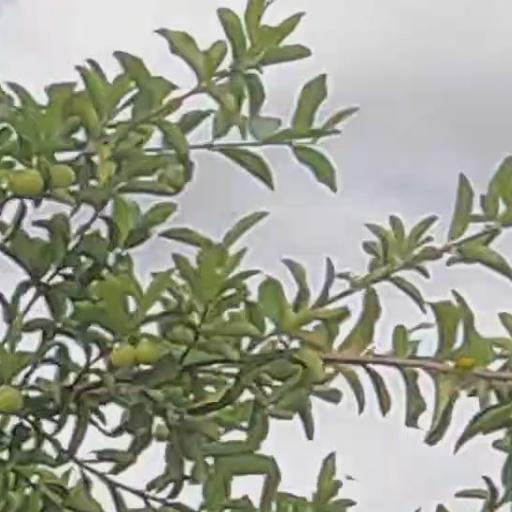acerola: (12, 172, 43, 197), (1, 389, 24, 414), (113, 346, 136, 368), (137, 343, 159, 364)
